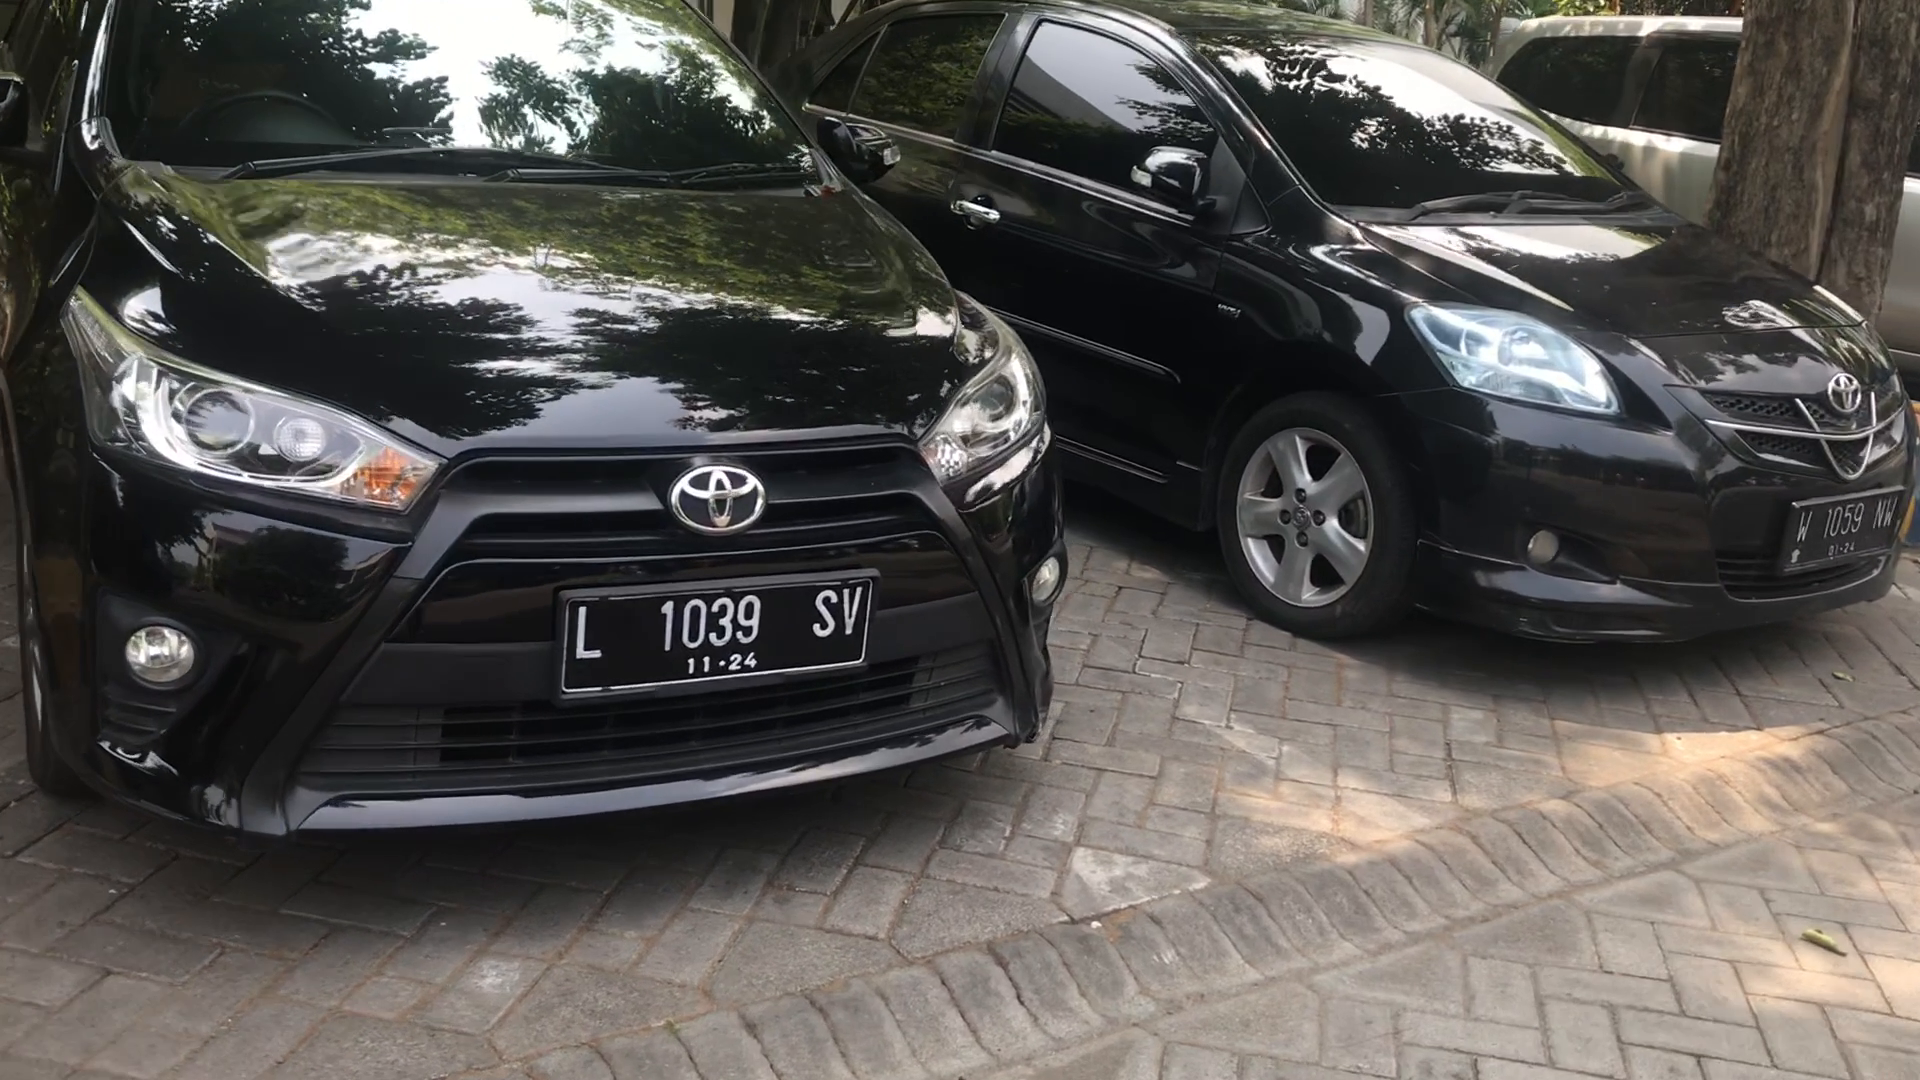plate: (565, 567, 872, 690), (1792, 500, 1907, 560)
